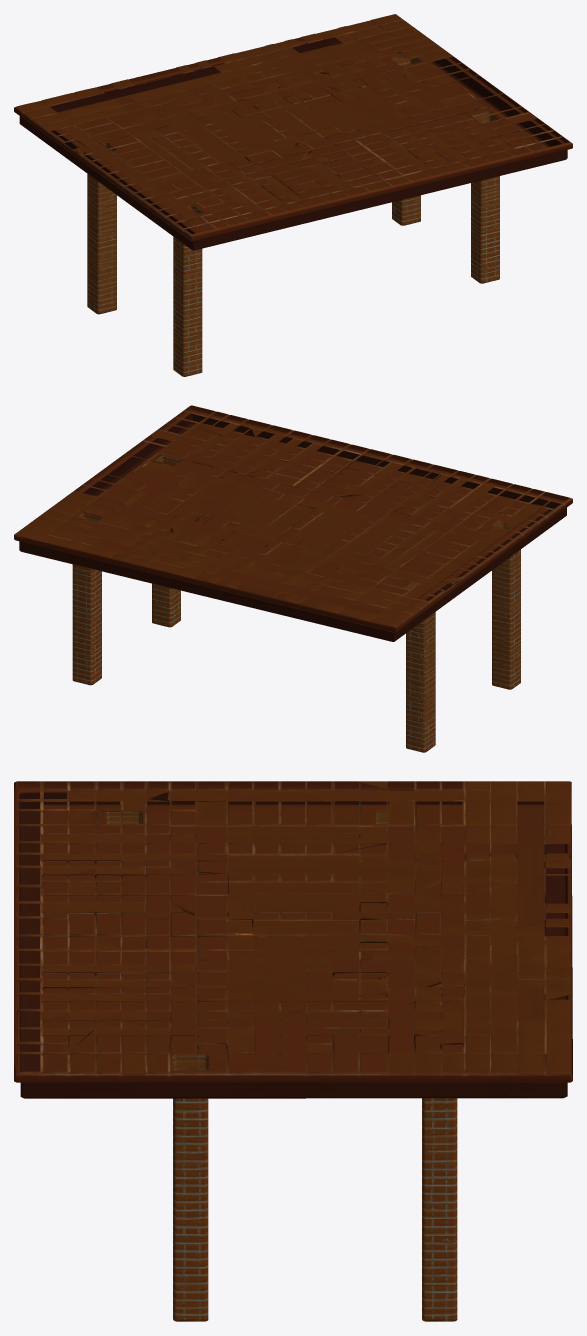
Rendered from brick-carport-blender-cleanup.glb.
3 renders of one model, top to bottom at view 1: azimuth 30°, elevation 25°; view 2: azimuth 150°, elevation 25°; view 3: azimuth 270°, elevation 25°, orthographic. The views are drawn at different scales.
Visible parts, largest first — view 1: tripo_node_c0dfd1e4-4c21-4f2b-bbc2-cbcb8d825253; view 2: tripo_node_c0dfd1e4-4c21-4f2b-bbc2-cbcb8d825253; view 3: tripo_node_c0dfd1e4-4c21-4f2b-bbc2-cbcb8d825253.
Part boxes in pixels (left/top/right/bottom): tripo_node_c0dfd1e4-4c21-4f2b-bbc2-cbcb8d825253: left=14, top=14, right=572, bottom=376; tripo_node_c0dfd1e4-4c21-4f2b-bbc2-cbcb8d825253: left=14, top=405, right=572, bottom=752; tripo_node_c0dfd1e4-4c21-4f2b-bbc2-cbcb8d825253: left=14, top=781, right=572, bottom=1321.
Bounding box in the file's own units: 1 × 0.4207 × 0.8043.
1 material, 1 textured.
